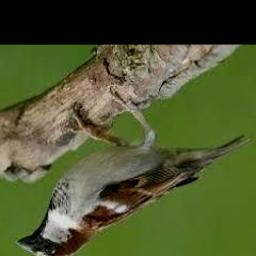Sparrow: (17, 89, 256, 256)
